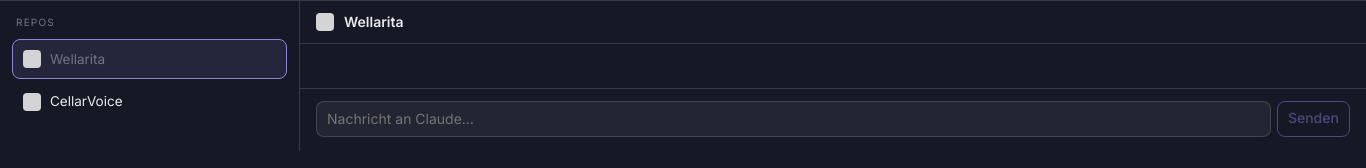
Test: Chat zweispaltig (req-041 AC11-13) › AC12: ein Klick auf Wellarita in der Liste zeigt rechts das Gespräch von Wellarita
Click the button "CellarVoice" at (86, 101), box [12,81,287,122]
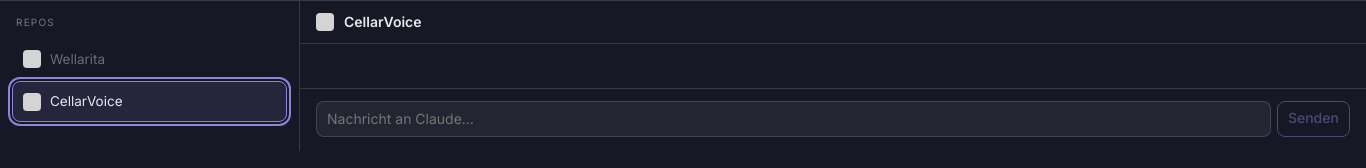
Expected: the 1st text "CellarVoice" is shown, [344,11,422,33]
Click the button "Wellarita" at (78, 58), box [12,38,287,79]
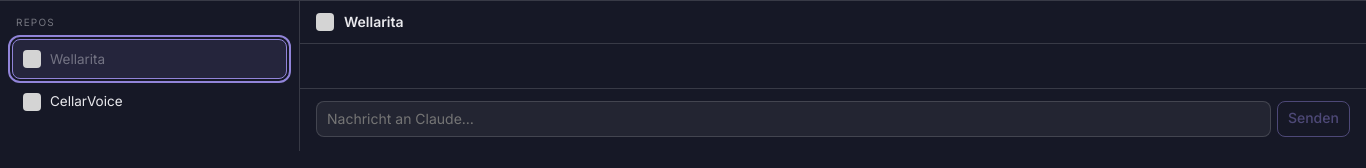
Expected: the 1st text "Wellarita" is shown, [344,11,404,33]
